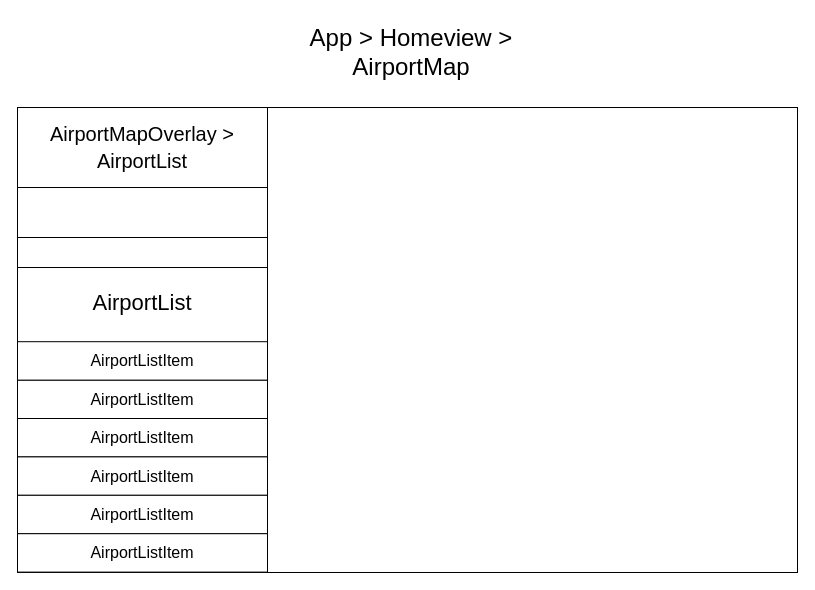
The diagram is 815 pixels wide and 590 high, and some of its shapes have lost their labels. The centre of each missing label's shape, as x and y in pixels:
AirportSearchForm: [142,212]
Mapbox: [532,339]
TextAlert: [142,252]
